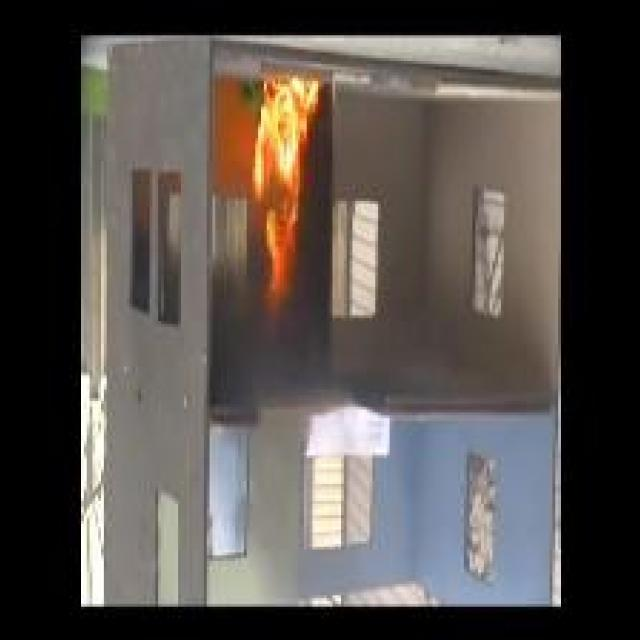Fire: (252, 73, 318, 327)
